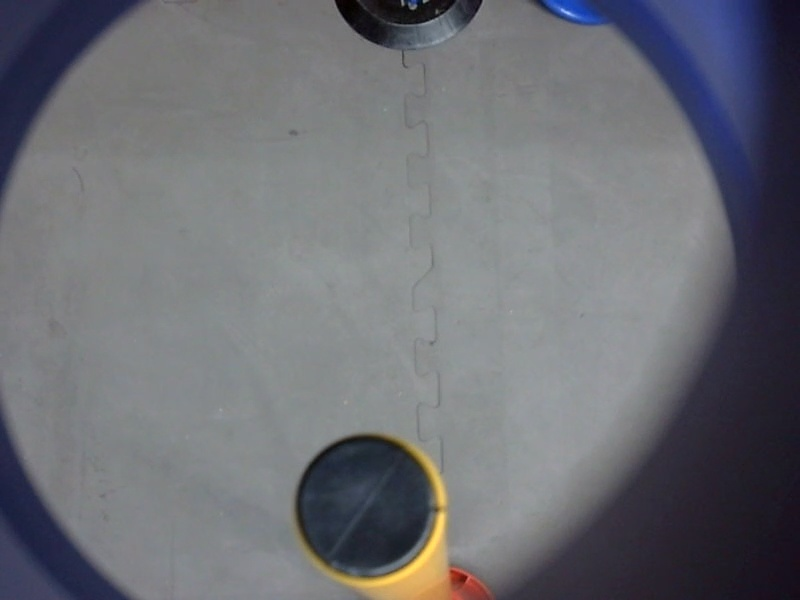tip: (281, 427, 455, 591)
